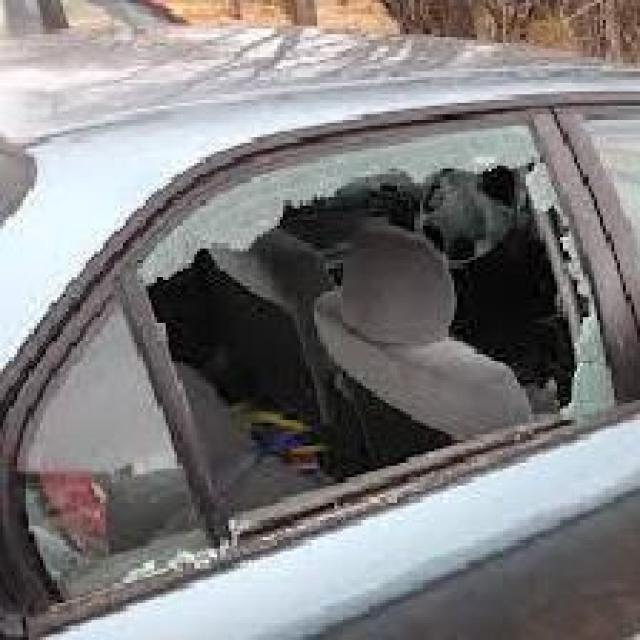damaged: (146, 160, 612, 546)
